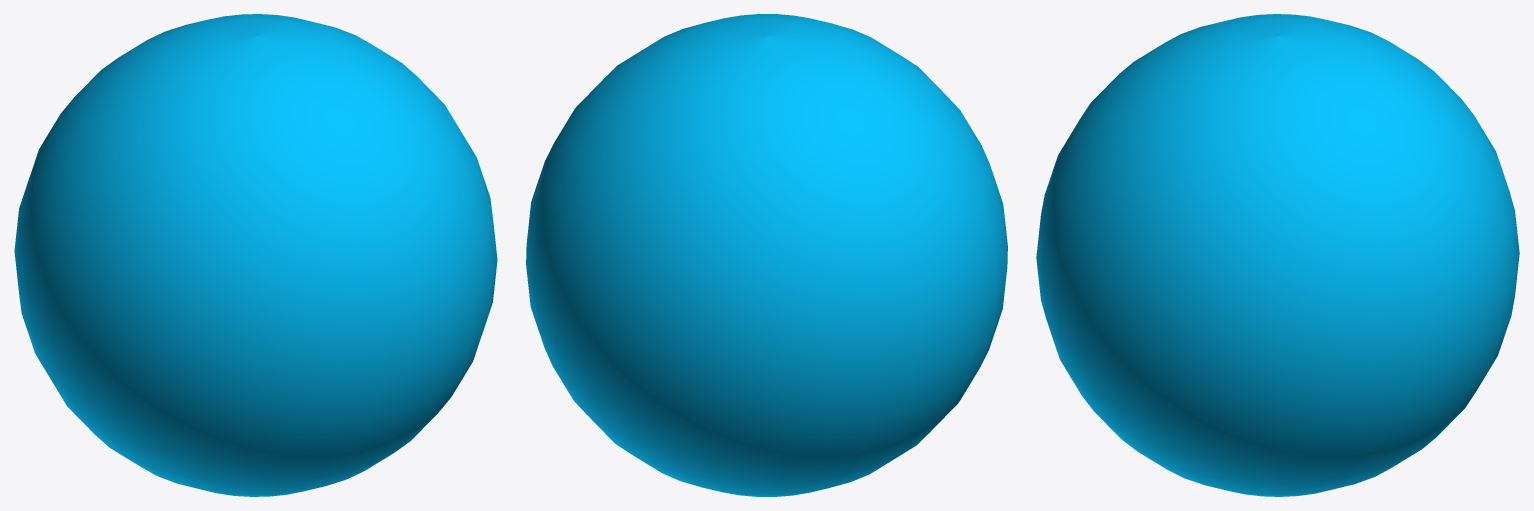
File: 05_BaseBall.fbx
3 renders of one model, left to right at view 1: azimuth 30°, elevation 25°; view 2: azimuth 150°, elevation 25°; view 3: azimuth 270°, elevation 25°, orthographic.
Parts seen in each view (by area): view 1: 05_BaseBall; view 2: 05_BaseBall; view 3: 05_BaseBall.
Boxes of the visible parts, x1,y1,x2,y2 form: 05_BaseBall: [14, 14, 497, 496]; 05_BaseBall: [526, 14, 1007, 496]; 05_BaseBall: [1036, 14, 1519, 496].
Bounding box in the file's own units: 20 × 20 × 20.
